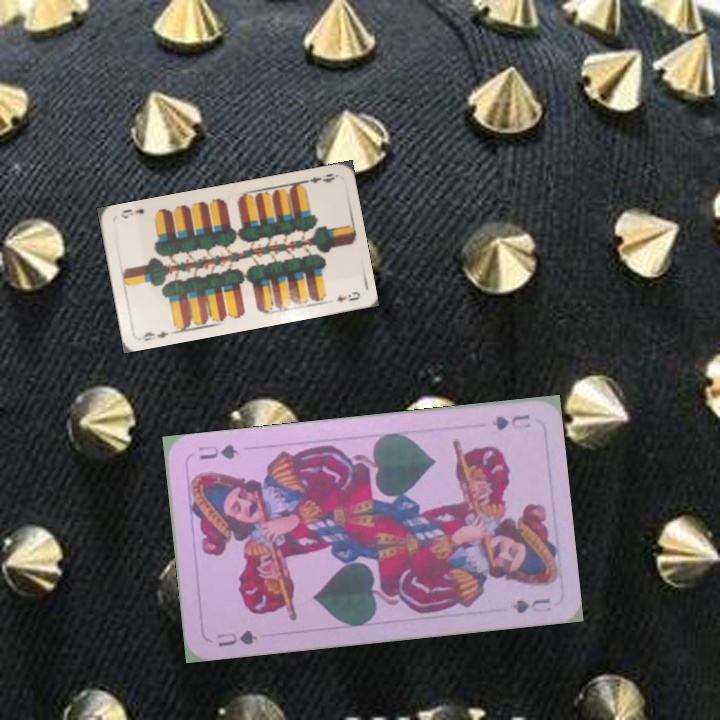E9: (298, 169, 339, 186), (136, 327, 171, 343)
GU: (213, 626, 260, 649), (488, 410, 534, 433)
